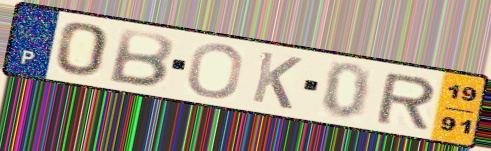0: (52, 20, 112, 79), (321, 62, 374, 122)
B: (104, 26, 176, 90)
K: (248, 49, 305, 112)
O: (185, 42, 246, 100)
R: (373, 71, 439, 131)
